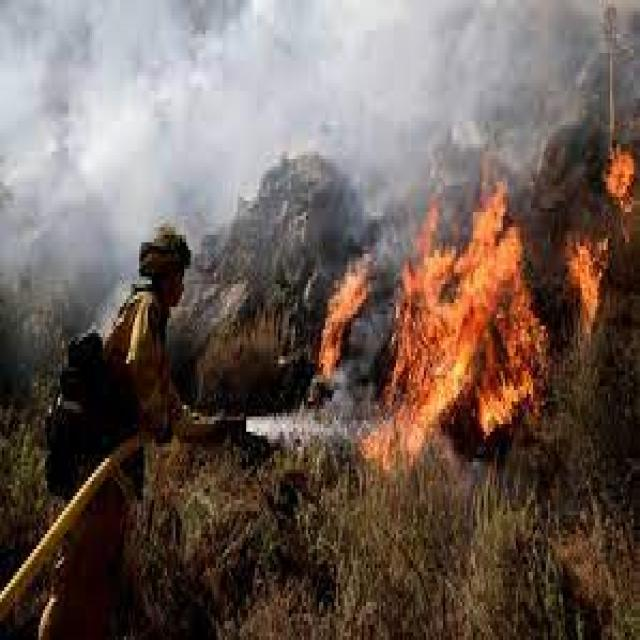Fire: (312, 126, 640, 476)
